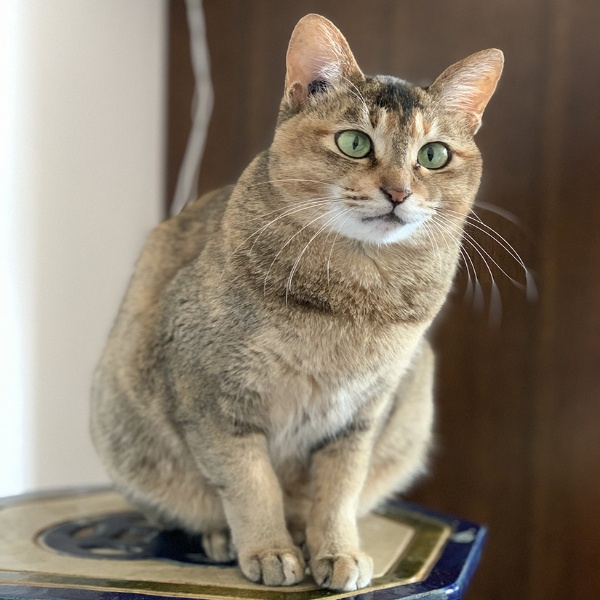cat: (81, 12, 506, 589)
